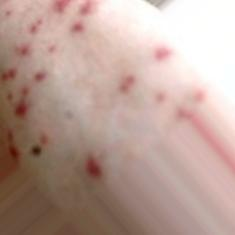Fleas: (1, 130, 22, 162), (86, 154, 104, 183), (152, 43, 171, 61), (118, 72, 134, 92), (28, 16, 42, 34), (71, 21, 88, 35), (152, 88, 167, 103), (33, 72, 47, 88), (0, 67, 16, 81), (176, 105, 193, 117), (14, 101, 28, 115), (16, 43, 31, 55), (30, 146, 40, 156), (47, 42, 56, 53), (5, 93, 13, 102), (40, 134, 47, 143)
